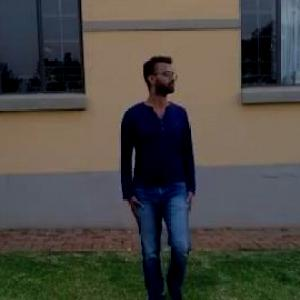follow: (115, 43, 206, 299)
